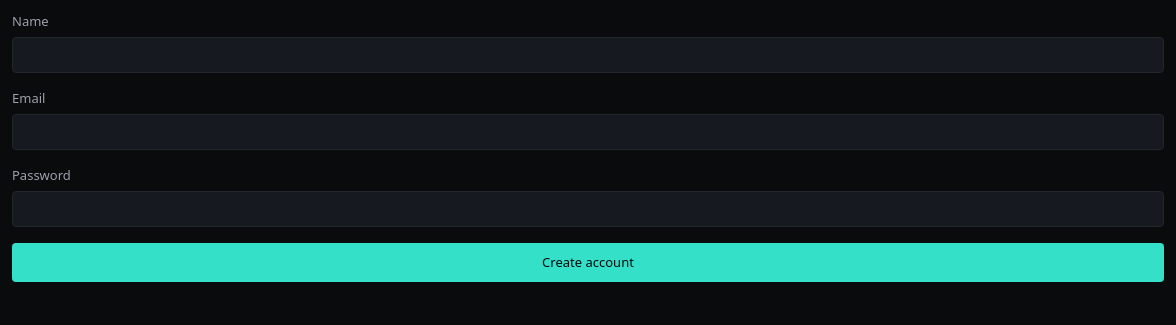
Test: AuthForm › rejects a password under twelve characters
Type "Ada" into the field labelled "Name" at (588, 55), box [12,37,1164,73]
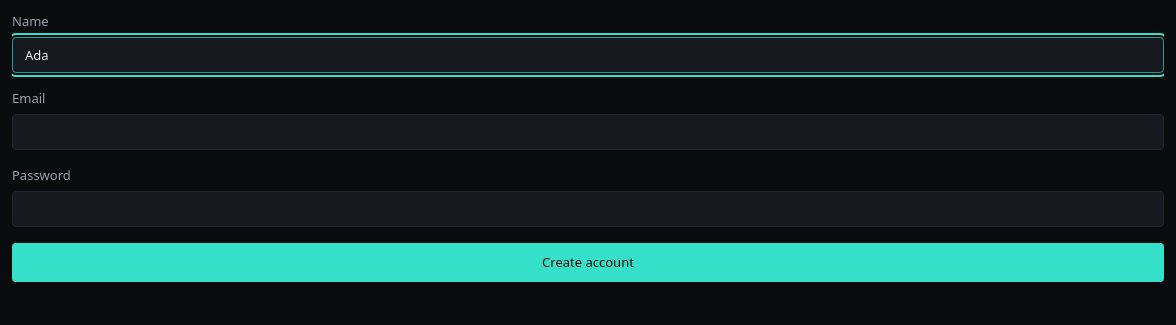
Type "ada@volsurface.test" into the field labelled "Email" at (588, 132), box [12,114,1164,150]
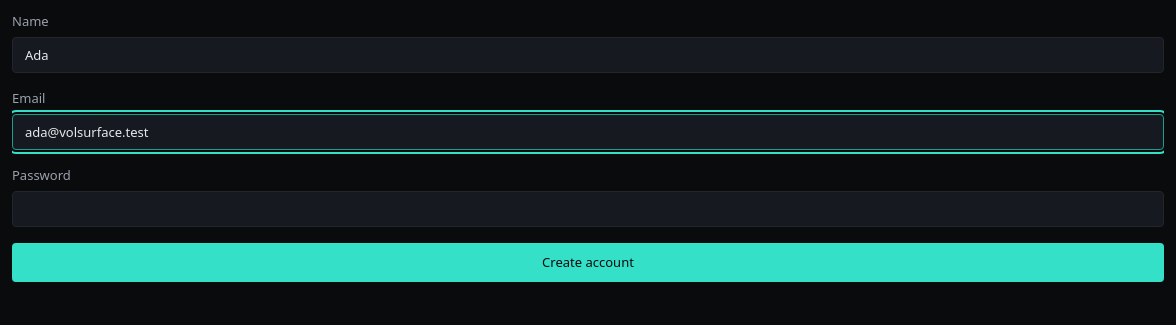
Type "short" into the password field labelled "Password" at (588, 209), box [12,191,1164,227]
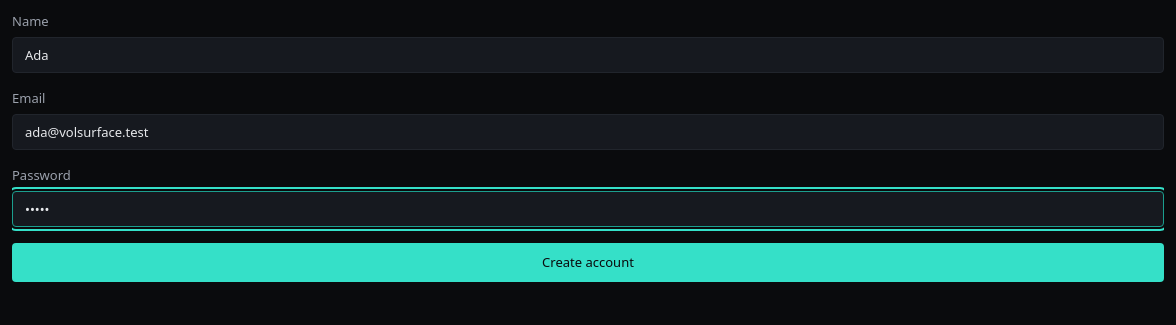
Click the button "Create account" at (588, 263), box [12,243,1164,282]
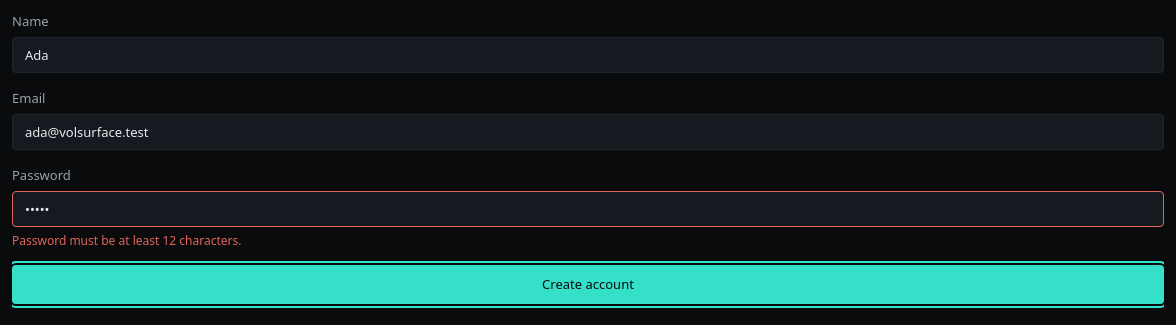
Check: the text "Password must be at least 12 characters." is shown, box [12,232,242,249]
